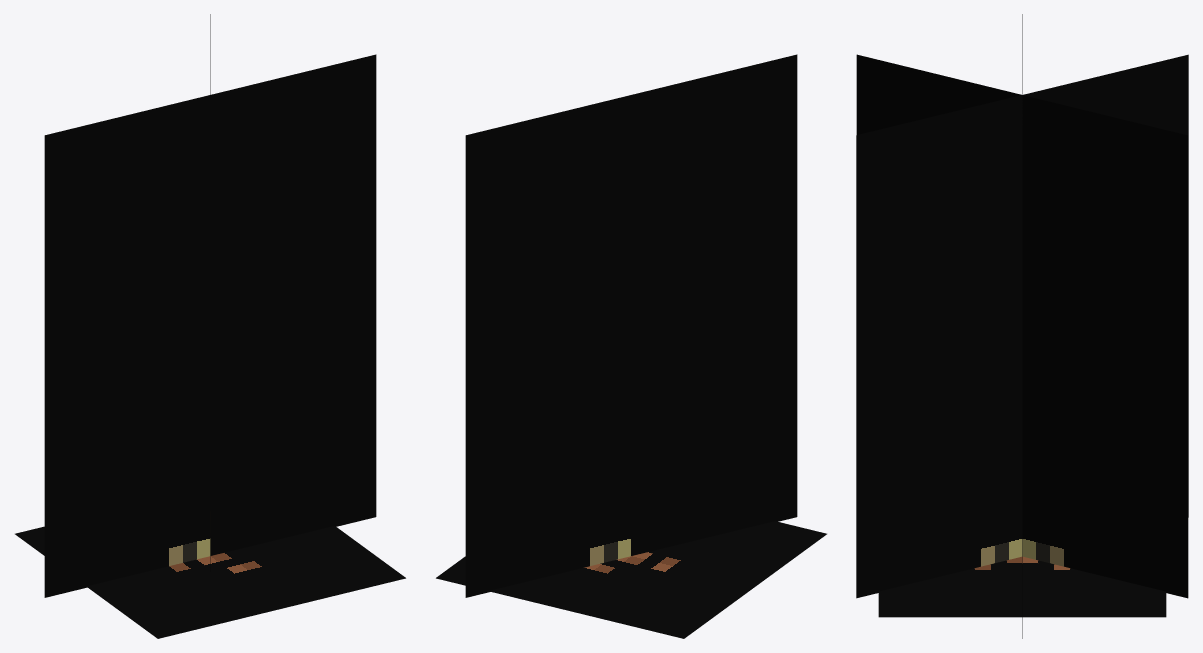
File: hemp_seed.gltf
3 renders of one model, left to right at view 1: azimuth 30°, elevation 25°; view 2: azimuth 150°, elevation 25°; view 3: azimuth 270°, elevation 25°, orthographic.
Visible parts, largest first — view 1: Plane.221; view 2: Plane.221; view 3: Plane.221.
Boxes of the visible parts, left/top/right/bottom form: Plane.221: left=15, top=14, right=405, bottom=638; Plane.221: left=436, top=54, right=826, bottom=638; Plane.221: left=856, top=14, right=1188, bottom=638.
Size of the model in its own units: 2.4 by 3.2 by 2.08.
Materials: 2 (2 with a texture image).
